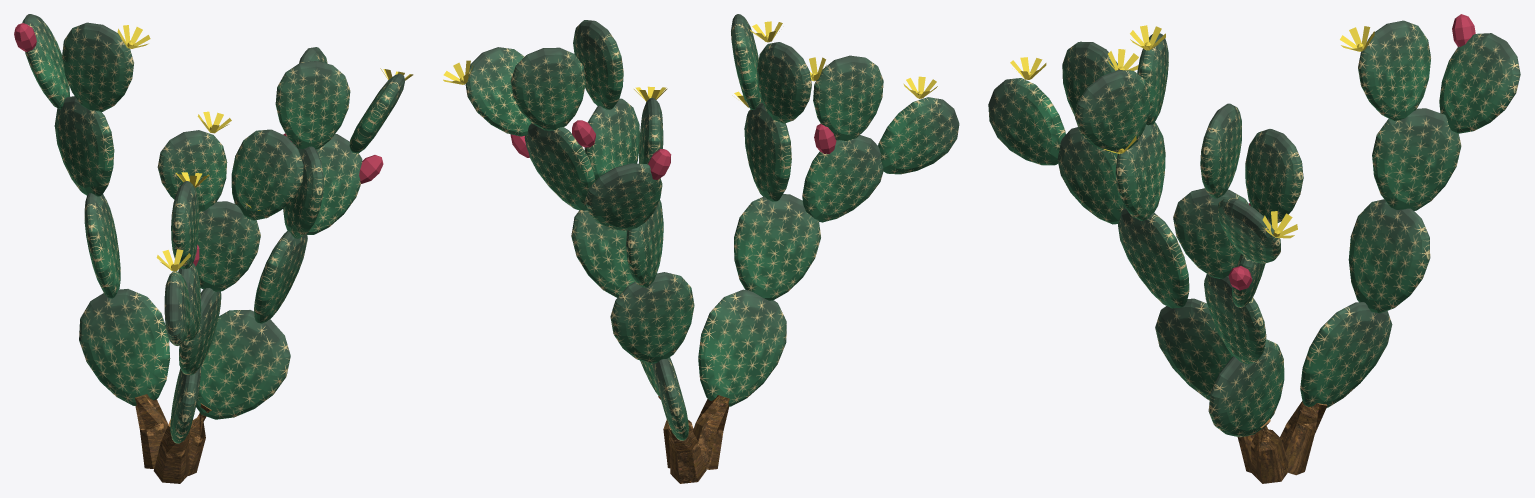
File: prickly_pear_v02.glb
3 views of the same model, side by side, from view 1: azimuth 30°, elevation 25°; view 2: azimuth 150°, elevation 25°; view 3: azimuth 270°, elevation 25° (orthographic). The views are drawn at different scales.
Parts seen in each view (by area): view 1: prickly_pear_v02; view 2: prickly_pear_v02; view 3: prickly_pear_v02.
Part boxes in pixels (<box>): prickly_pear_v02: <box>14,14,413,483</box>; prickly_pear_v02: <box>443,14,959,483</box>; prickly_pear_v02: <box>988,14,1520,483</box>.
Bounding box in the file's own units: 0.8088 × 0.85 × 0.9268.
4 materials, 2 textured.
